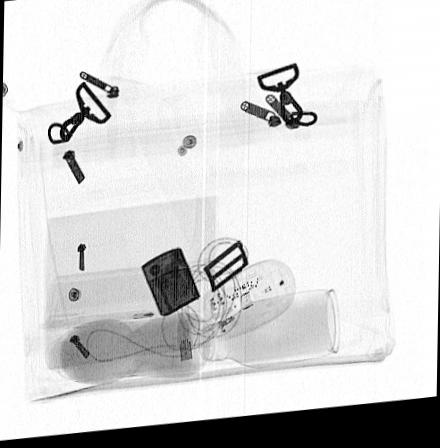Lighter: (140, 250, 201, 320)
